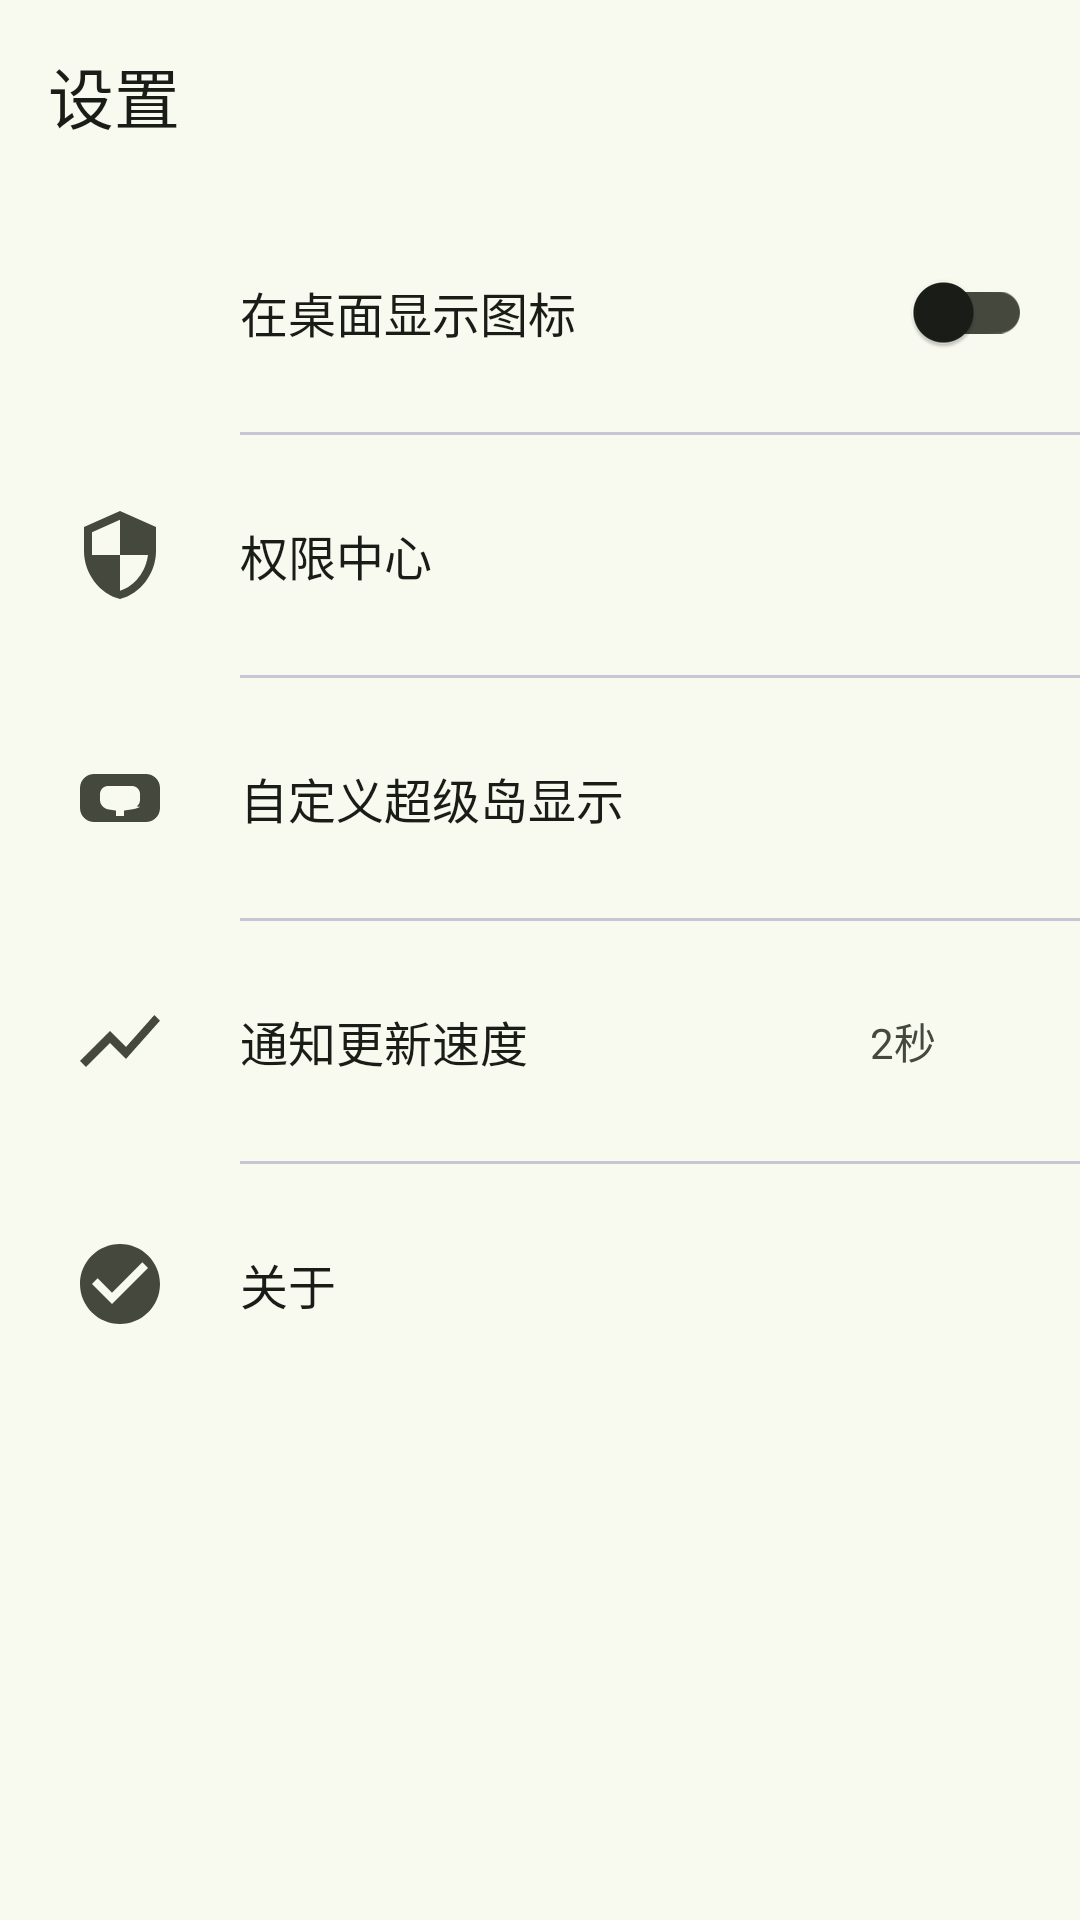

Where to tap for icons on this 1080px×1920px app screen, as (x=x, y=y):
超级岛自定义: (x=120, y=798)
